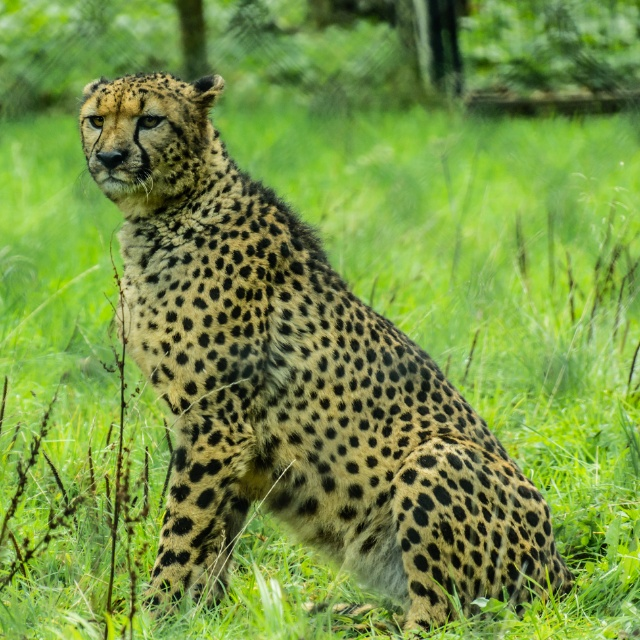Cheetah: (74, 70, 576, 640)
